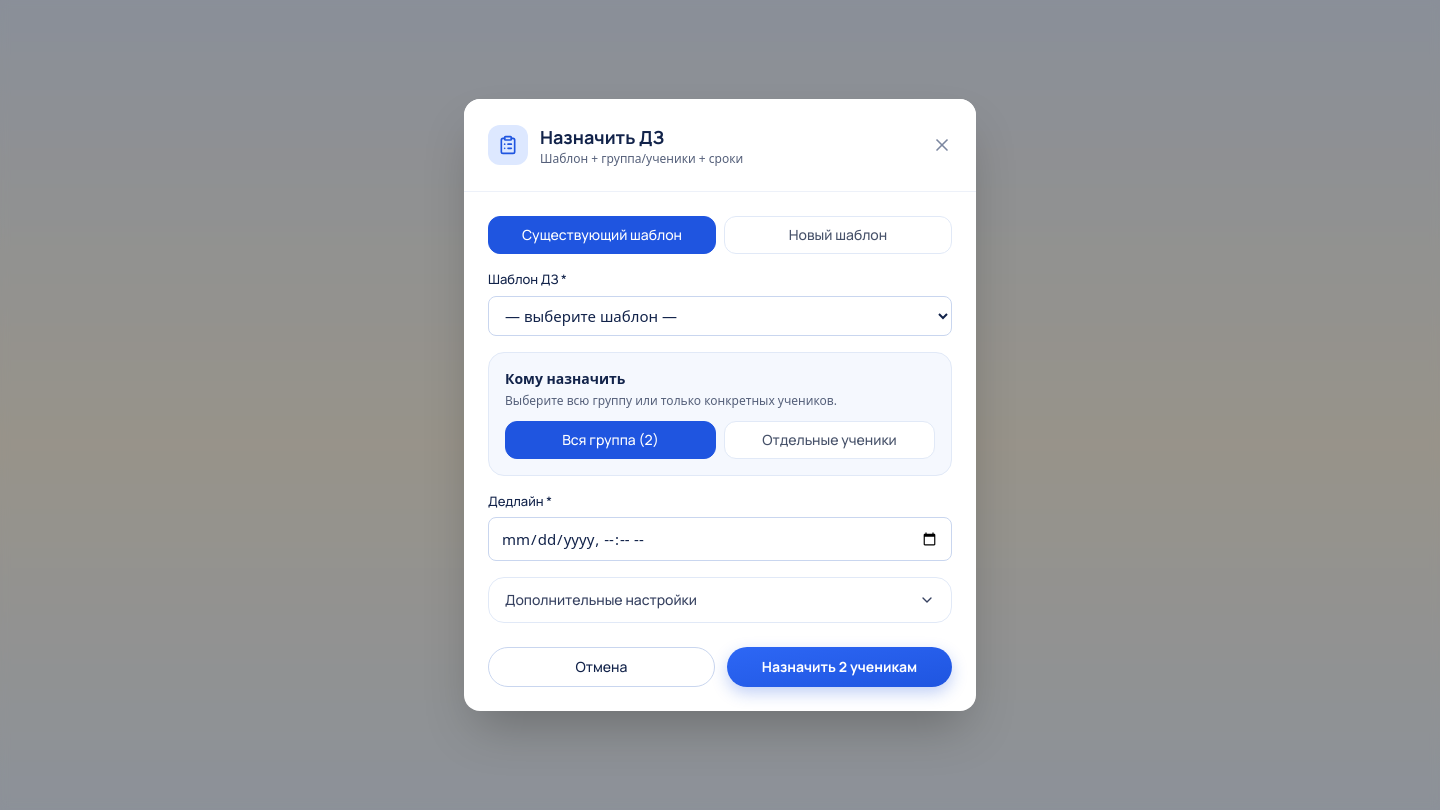
Test: AssignHomeworkTemplateModal › режим «Выбрать учеников» без выбора ни одного ученика показывает ошибку
The image size is (1440, 810).
Select "Существующий шаблон (v1)" in the dropdown labelled "Шаблон ДЗ *": (720, 316) [488,296,952,336]
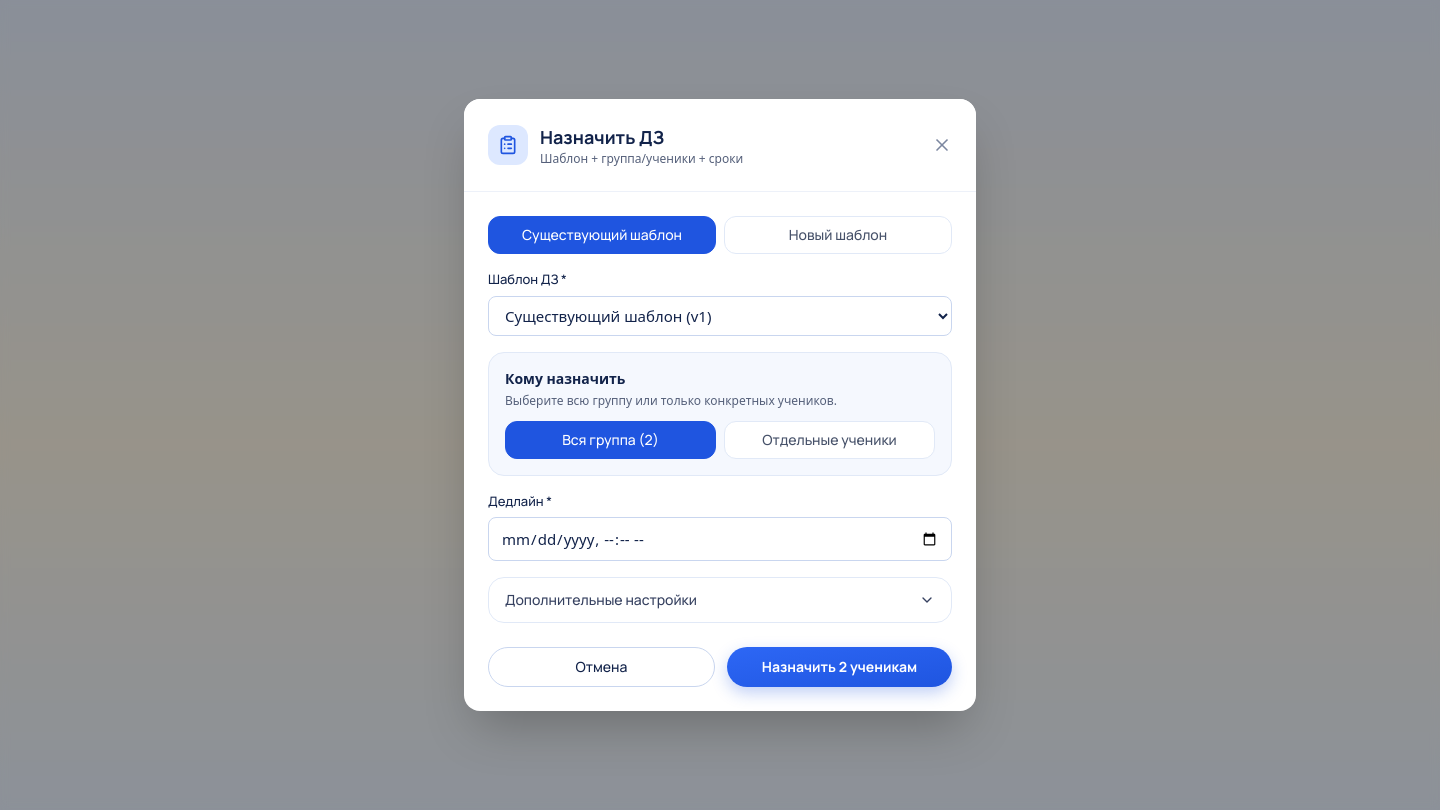
In the field labelled "Дедлайн *": (720, 539) [488,517,952,561], type "2026-12-01T12:00"
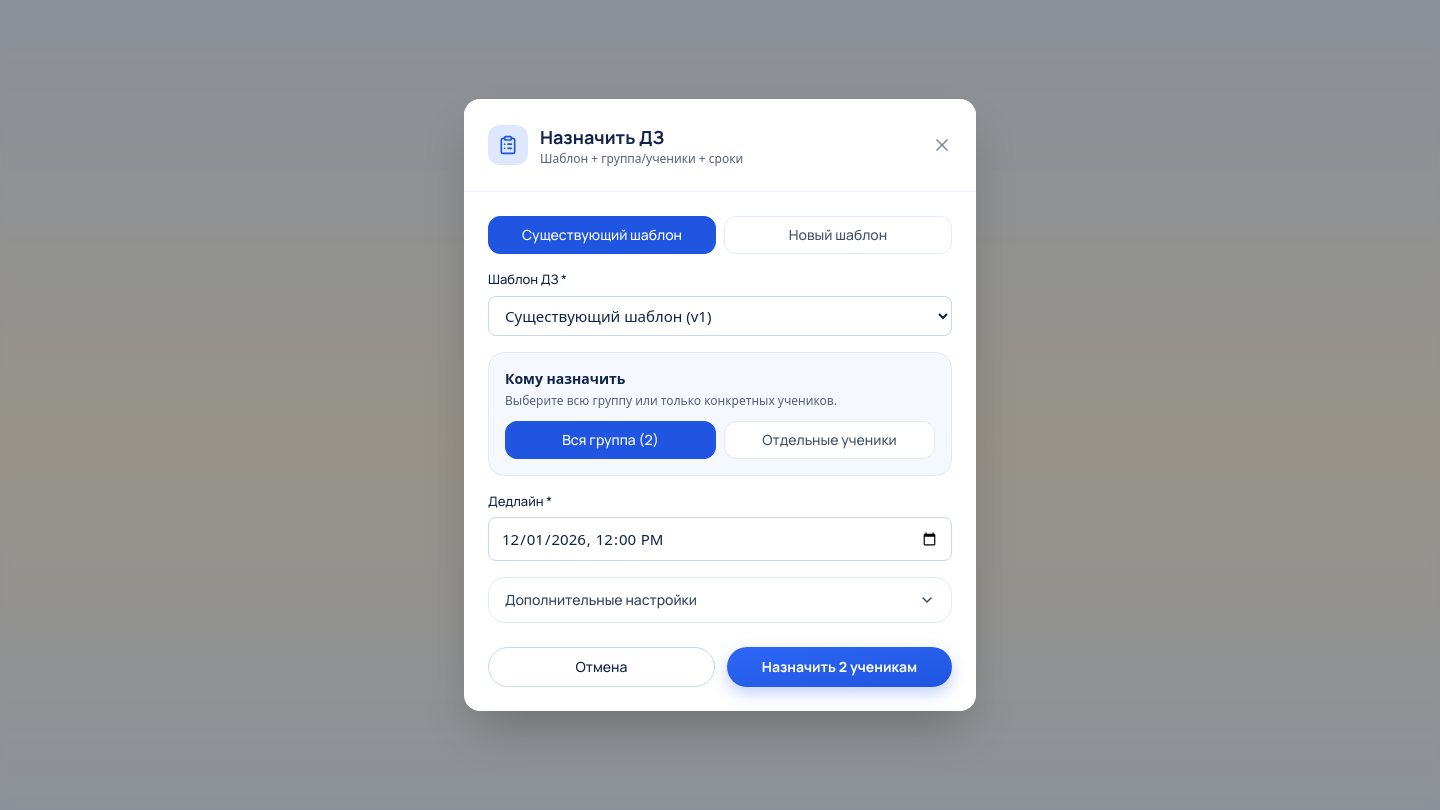
Click the button "Отдельные ученики": (830, 440) [724,420,935,458]
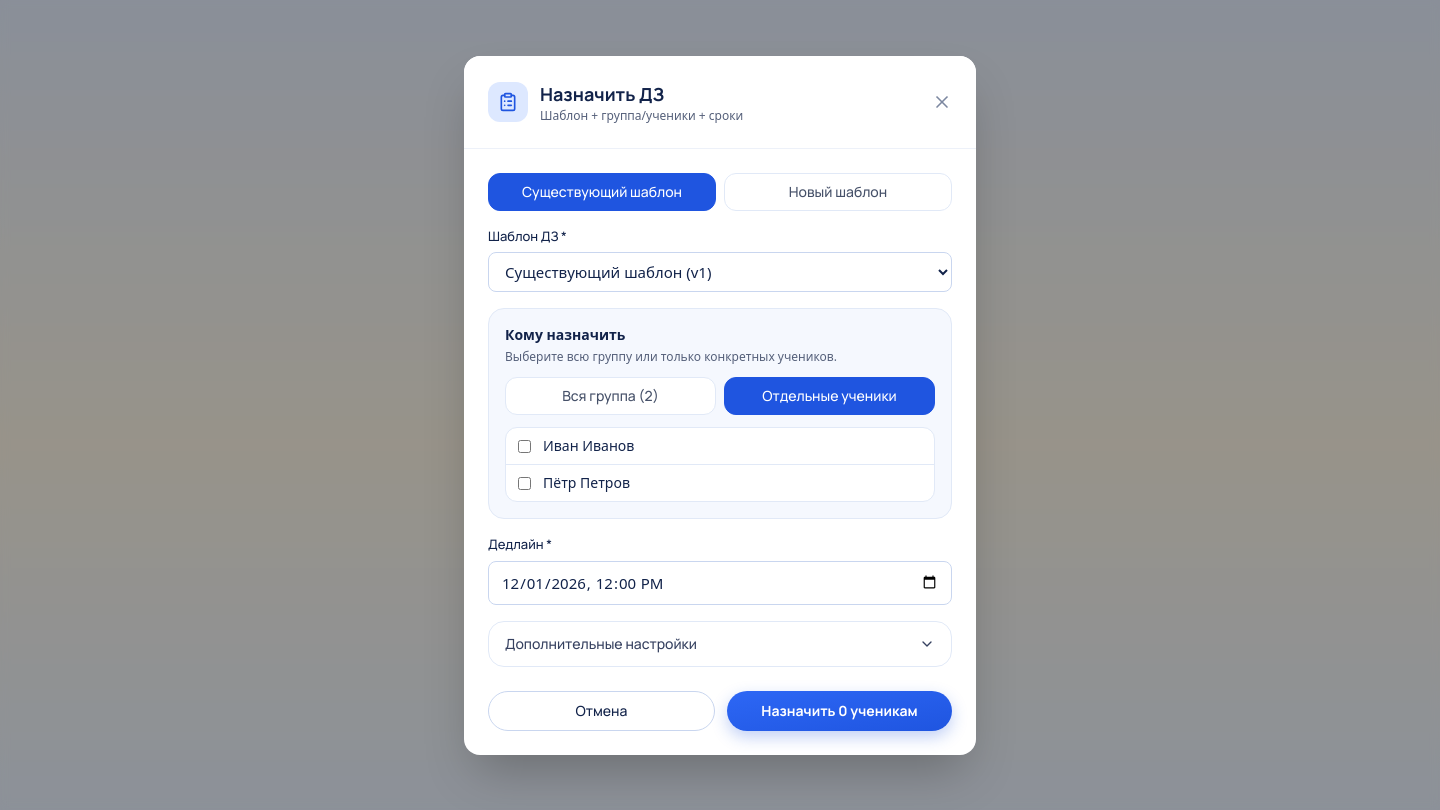
Click the button "Назначить 0 ученикам": (840, 710) [727,690,952,730]
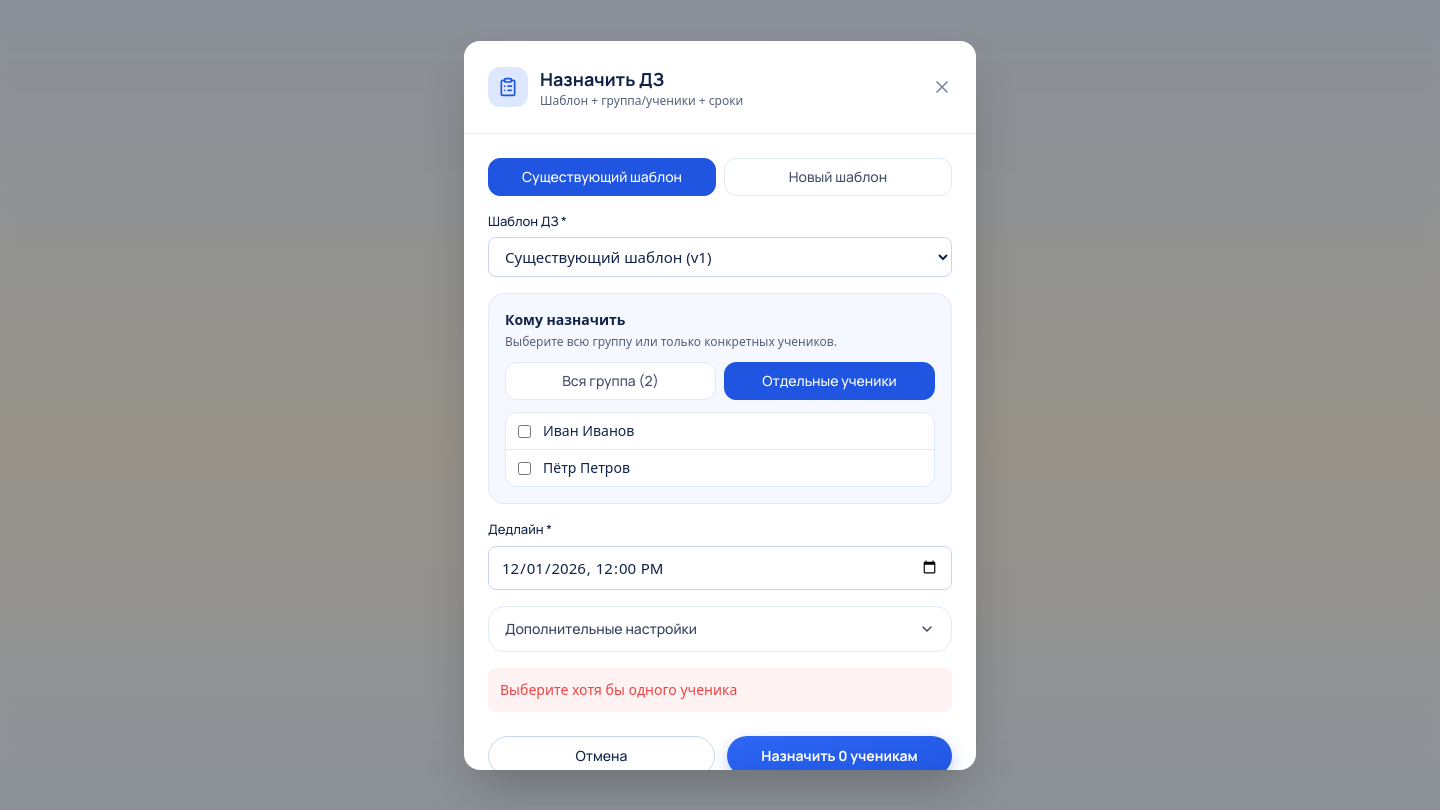
Result: the text "Выберите хотя бы одного ученика" is shown at [488,668,952,712]
